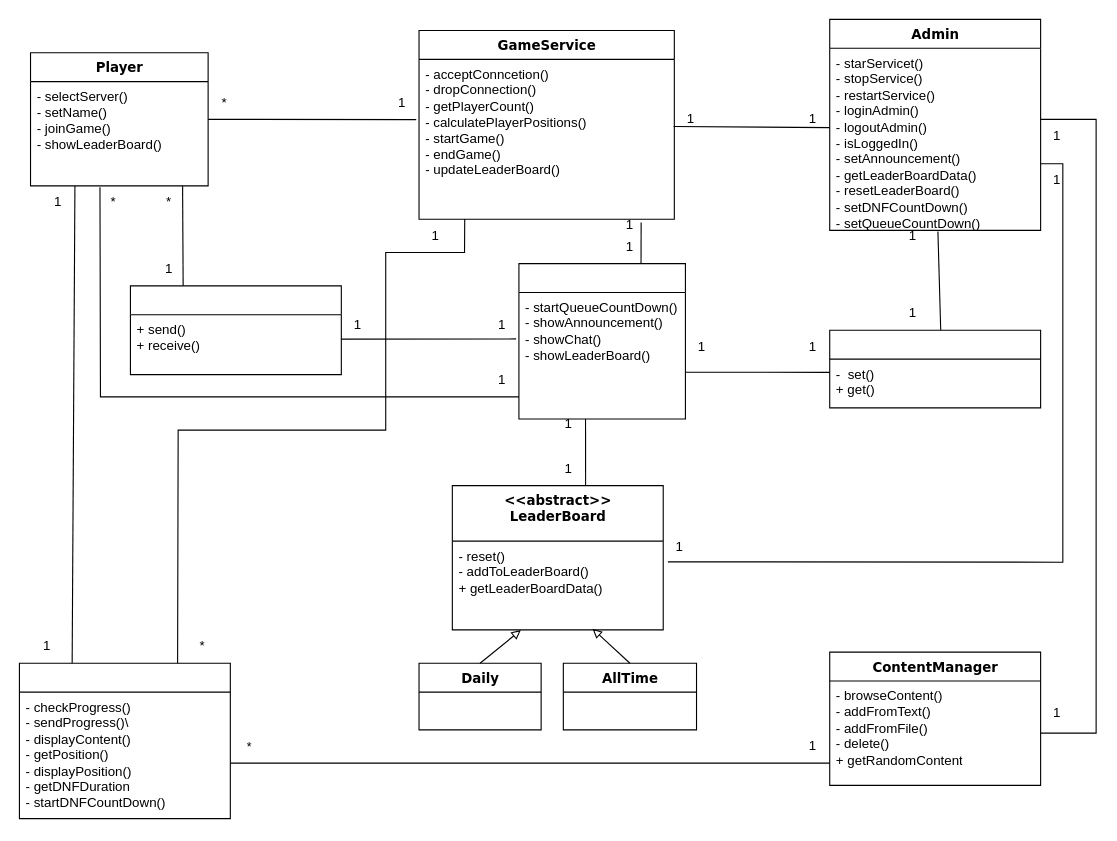
Some shapes in this 1117 by 841 pixel diagram are drawn without their labels. The shapes that lost their labels are listed below. From the top down, each one's box as (x1, y1, x2, y2) in pixels, then its label:
(129, 285, 341, 375): Chat
(518, 263, 685, 419): Lobby
(829, 329, 1041, 408): Announcement
(18, 662, 230, 819): Game
